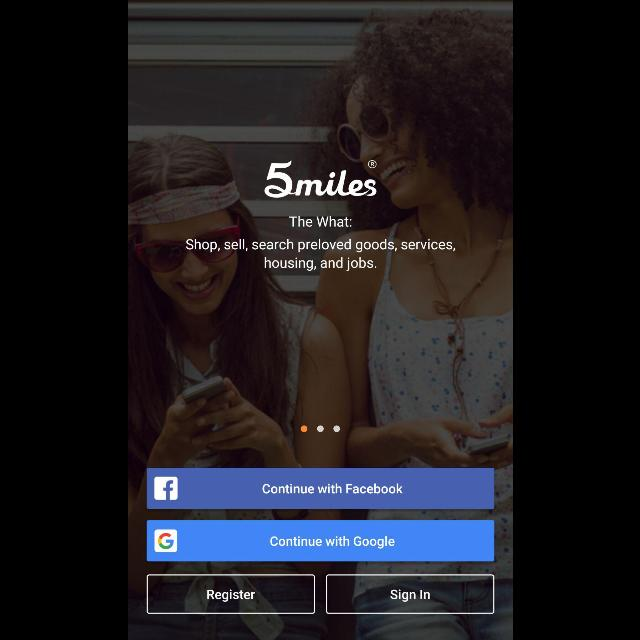backgroundimage: (128, 1, 512, 640)
image: (264, 160, 376, 198)
pageindicator: (300, 425, 340, 433)
text: (186, 239, 454, 271), (288, 216, 350, 228)
textbutton: (146, 520, 494, 562), (146, 468, 494, 509), (146, 574, 314, 614), (326, 574, 494, 614)
